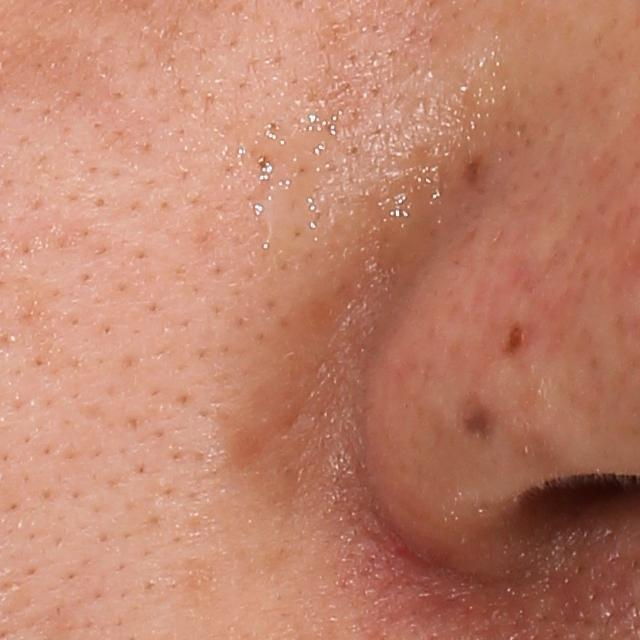nevus: (500, 321, 533, 355), (458, 153, 484, 188)
